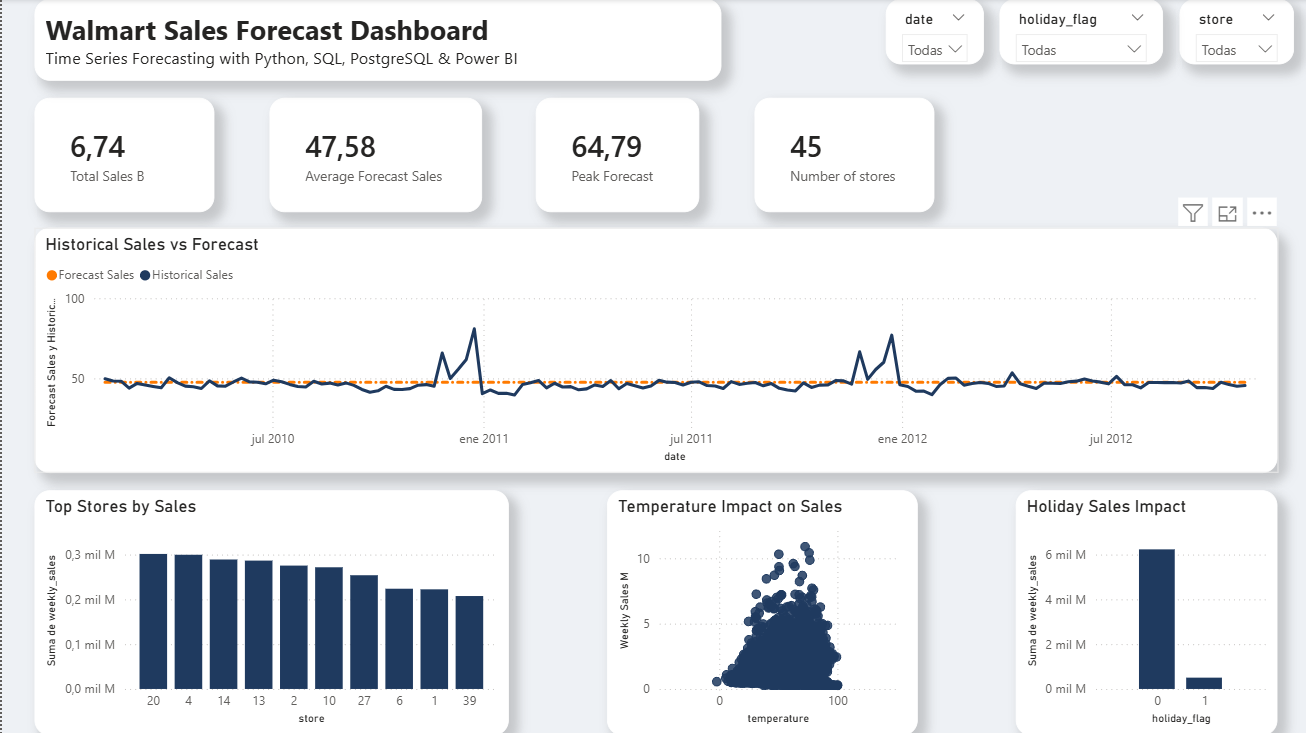

What the dashboard file says about the page in this screenshot:
{"tool":"powerbi","page":{"name":"Página 1","canvas":[1280,720],"ordinal":0},"visuals":[{"type":"cardVisual","fields":{"Data":["public walmart_sales.Total Sales M"]},"box":[32,96,176,112],"z":0},{"type":"cardVisual","fields":{"Data":["Avg(forecast.yhat)"]},"box":[261.3,96,208,112],"z":1000},{"type":"cardVisual","fields":{"Data":["Max(forecast.yhat)"]},"box":[522.7,96,160,112],"z":2000},{"type":"cardVisual","fields":{"Data":["Count(public walmart_sales.store)"]},"box":[736,96,176,112],"z":3000},{"type":"lineChart","title":"Historical Sales vs Forecast","fields":{"Y":["Avg(forecast.yhat)","public walmart_sales.Weekly Sales M"],"Category":["public walmart_sales.date"]},"box":[32,224,1216,240],"z":4000},{"type":"clusteredColumnChart","title":"Top Stores by Sales","fields":{"Category":["public walmart_sales.store"],"Y":["Sum(public walmart_sales.weekly_sales)"]},"box":[32,480,464,240],"z":5000},{"type":"scatterChart","title":"Temperature Impact on Sales","fields":{"X":["public walmart_sales.temperature"],"Y":["public walmart_sales.Weekly Sales M"]},"box":[592,480,304,240],"z":6000},{"type":"clusteredColumnChart","title":"Holiday Sales Impact","fields":{"Category":["public walmart_sales.holiday_flag"],"Y":["Sum(public walmart_sales.weekly_sales)"]},"box":[992,480,256,240],"z":7000},{"type":"slicer","fields":{"Values":["public walmart_sales.date"]},"box":[864,0,96,64],"z":8000},{"type":"slicer","fields":{"Values":["public walmart_sales.store"]},"box":[1152,0,112,64],"z":9000},{"type":"slicer","fields":{"Values":["public walmart_sales.holiday_flag"]},"box":[976,0,160,64],"z":10000},{"type":"textbox","box":[32,0,672,80],"z":11000}]}

Visuals, with their boxes in screenshot pixels (x1, y1, x2, y2), scaled from the page's 1280x720 canvas onto the 1306x733 screenshot:
cardVisual - public walmart_sales.Total Sales M: 33/98/212/212
cardVisual - Avg(forecast.yhat): 267/98/479/212
cardVisual - Max(forecast.yhat): 533/98/697/212
cardVisual - Count(public walmart_sales.store): 751/98/931/212
"Historical Sales vs Forecast" lineChart: 33/228/1273/472
"Top Stores by Sales" clusteredColumnChart: 33/489/506/732
"Temperature Impact on Sales" scatterChart: 604/489/914/732
"Holiday Sales Impact" clusteredColumnChart: 1012/489/1273/732
slicer - public walmart_sales.date: 882/0/980/65
slicer - public walmart_sales.store: 1175/0/1290/65
slicer - public walmart_sales.holiday_flag: 996/0/1159/65
textbox: 33/0/718/81
